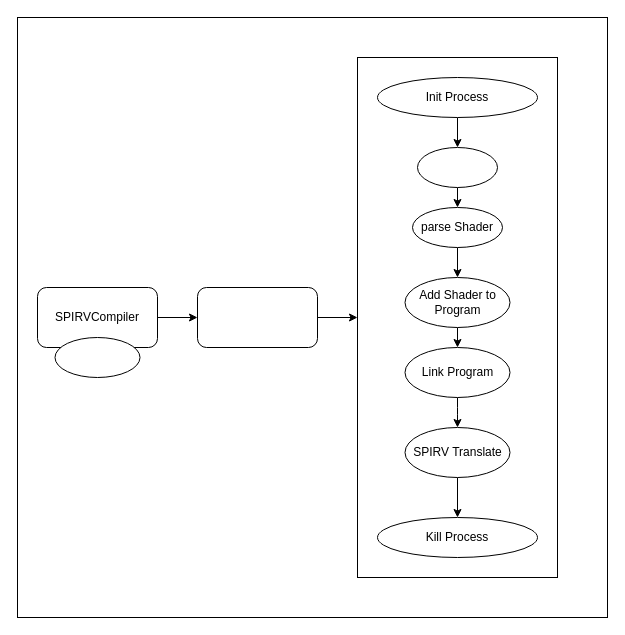
Some shapes in this 625 by 635 pixel diagram are drawn without their labels. The centre of each missing label's shape, as x and y in pixels:
Compile: (257,317)
Init TShader: (457,167)
TProgram: (97,357)
